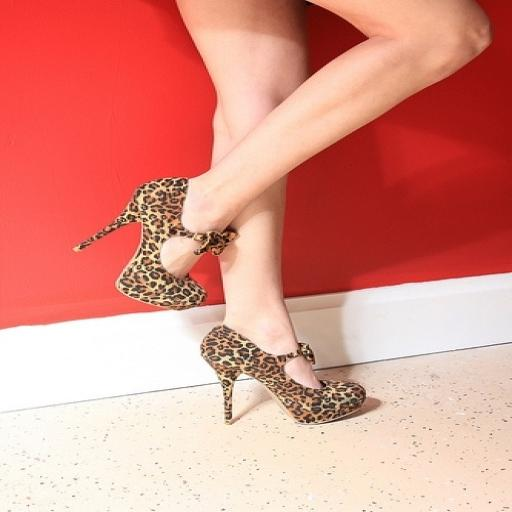heels: (74, 177, 237, 310), (201, 325, 366, 424)
